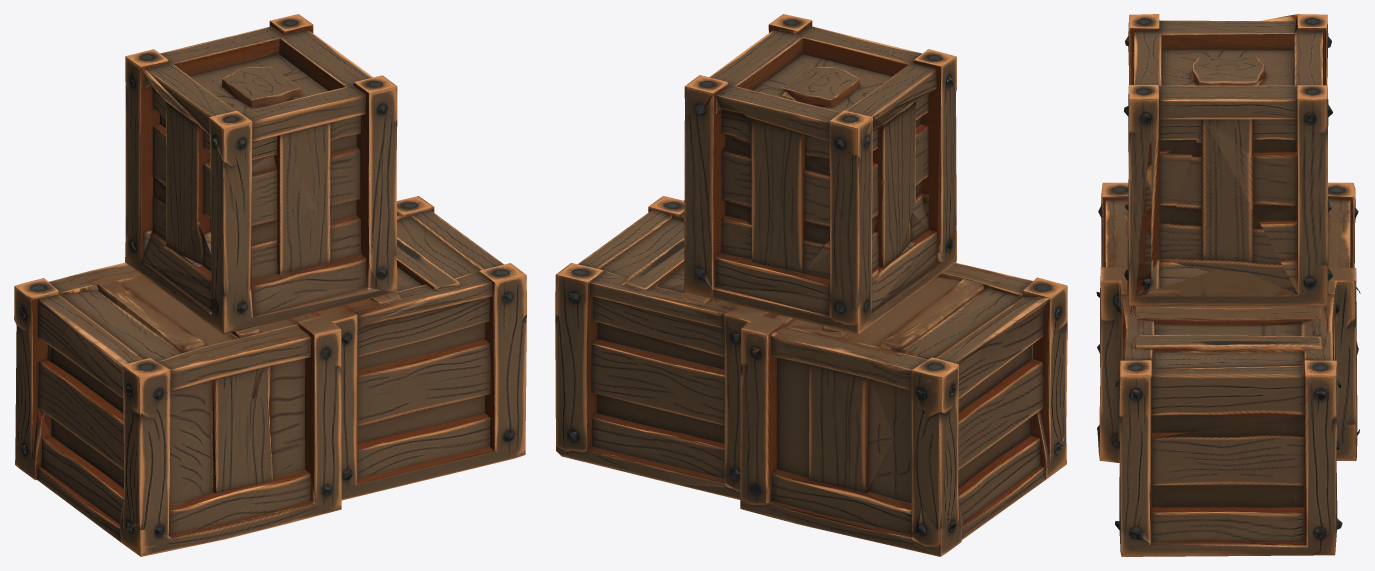
Rendered from crate-stack.hq.glb.
3 views of the same model, side by side, from view 1: azimuth 30°, elevation 25°; view 2: azimuth 150°, elevation 25°; view 3: azimuth 270°, elevation 25° (orthographic).
Visible parts, largest first — view 1: output_unwrapped; view 2: output_unwrapped; view 3: output_unwrapped.
Boxes of the visible parts, x1,y1,x2,y2 form: output_unwrapped: (14,14,526,556); output_unwrapped: (555,14,1067,556); output_unwrapped: (1096,14,1360,556).
Bounding box in the file's own units: 1.9 × 1.79 × 1.07.
Materials: 1 (1 with a texture image).
